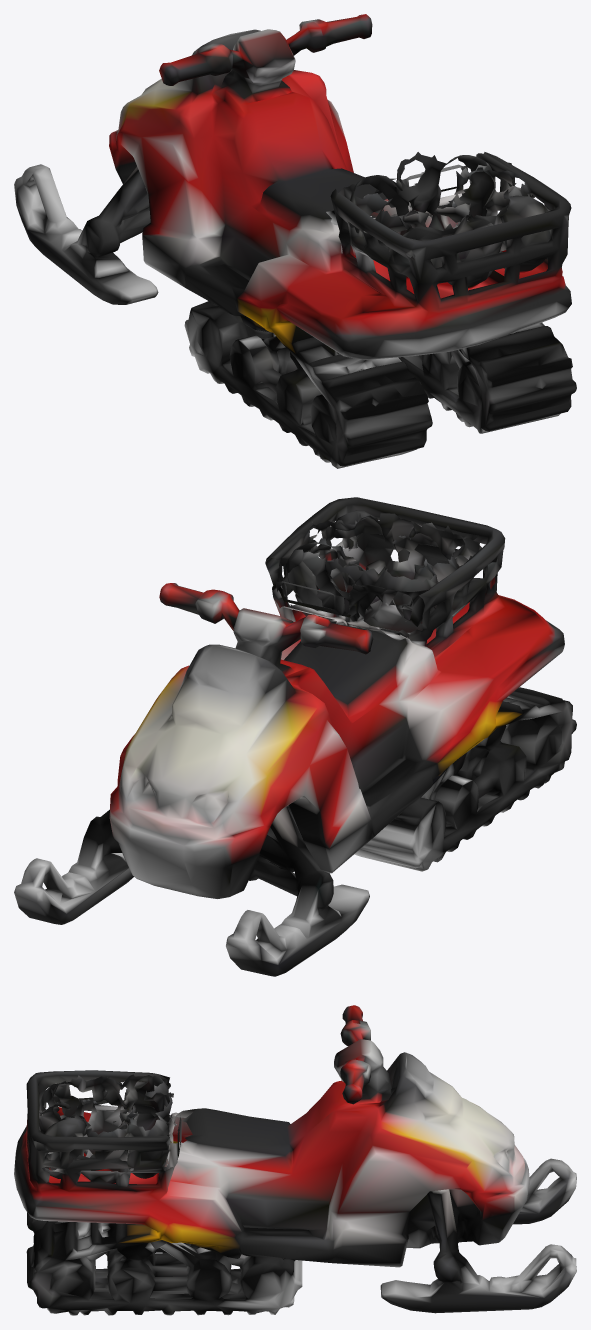
Rendered from snowmobile.glb.
3 views of the same model, one above another, from view 1: azimuth 30°, elevation 25°; view 2: azimuth 150°, elevation 25°; view 3: azimuth 270°, elevation 25° (orthographic). The views are drawn at different scales.
Visible parts, largest first — view 1: geometry_0; view 2: geometry_0; view 3: geometry_0.
Boxes of the visible parts, box(x1,y1,x2,y2) form: geometry_0: box(14, 14, 576, 468); geometry_0: box(14, 497, 576, 976); geometry_0: box(14, 1005, 576, 1315).
Bounding box in the file's own units: 0.8141 × 0.8537 × 1.9.
